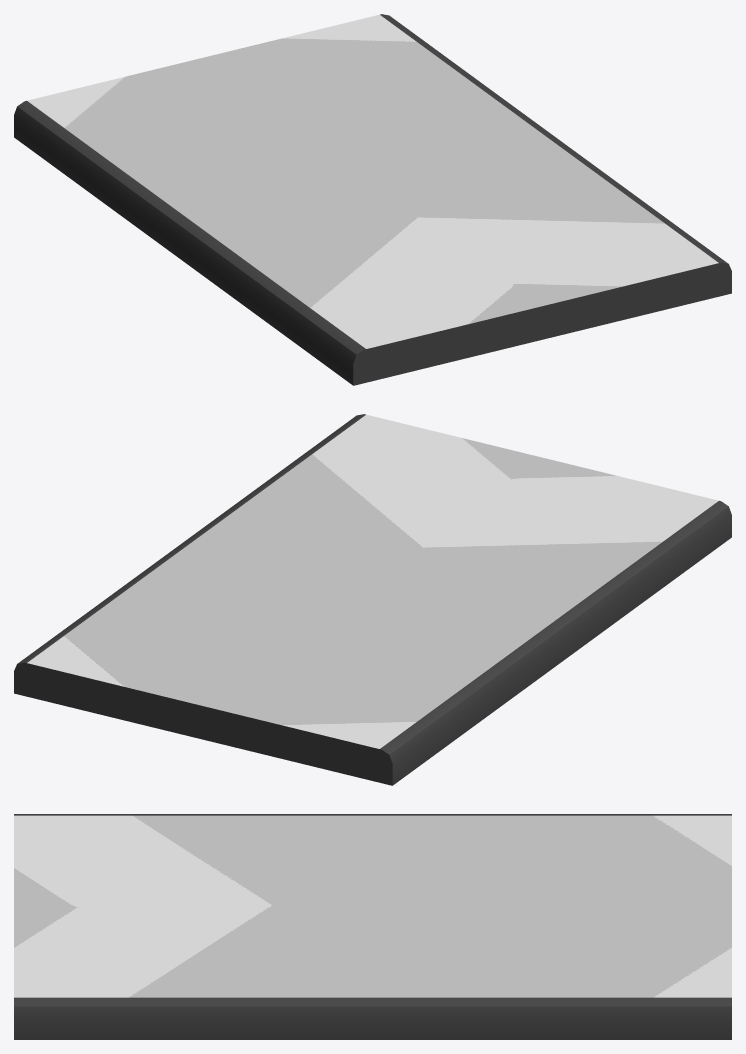
File: platform.main.fbx
3 renders of one model, top to bottom at view 1: azimuth 30°, elevation 25°; view 2: azimuth 150°, elevation 25°; view 3: azimuth 270°, elevation 25°, orthographic. The views are drawn at different scales.
Parts seen in each view (by area): view 1: main; view 2: main; view 3: main.
Boxes of the visible parts, x1,y1,x2,y2 form: main: [14, 14, 731, 385]; main: [14, 414, 731, 785]; main: [14, 814, 731, 1039].
Size of the model in its own units: 481 by 40.8 by 747.
1 material, 1 textured.
